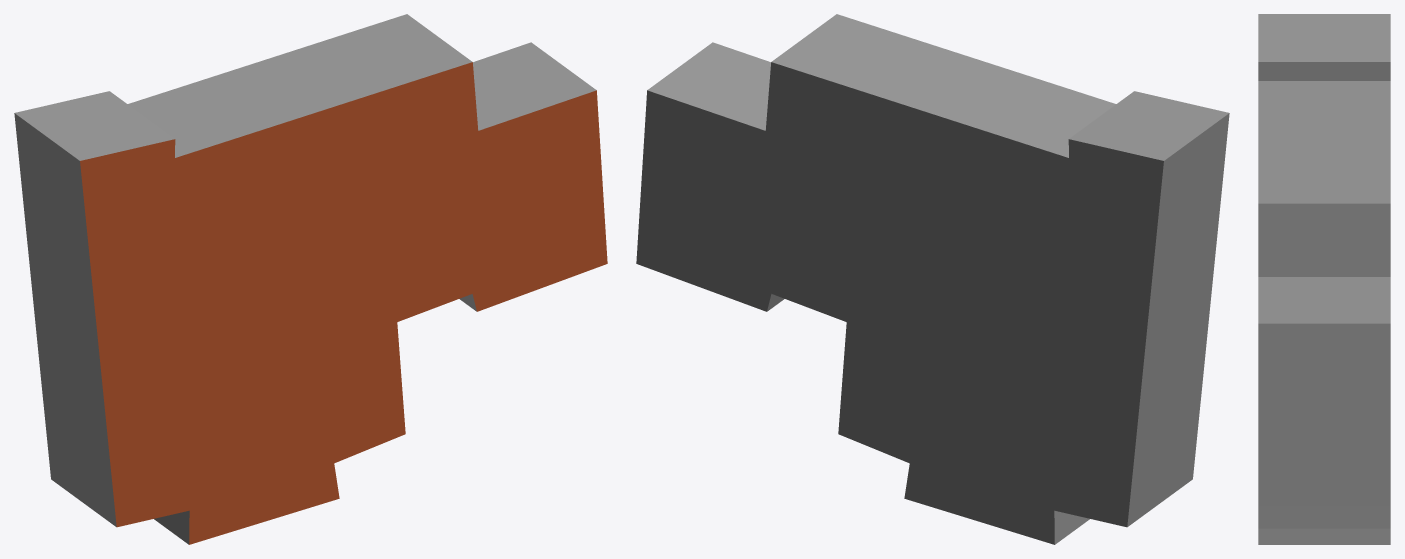
The model's file is construction_6101_assumed_A_Casa_h6m.obj.
3 views of the same model, side by side, from view 1: azimuth 30°, elevation 25°; view 2: azimuth 150°, elevation 25°; view 3: azimuth 270°, elevation 25° (orthographic).
Visible parts, largest first — view 1: construction_6101_assumed_A_Casa; view 2: construction_6101_assumed_A_Casa; view 3: construction_6101_assumed_A_Casa.
Part boxes in pixels (box(x1,y1,x2,y2)): construction_6101_assumed_A_Casa: box(14, 14, 607, 544); construction_6101_assumed_A_Casa: box(636, 14, 1229, 544); construction_6101_assumed_A_Casa: box(1258, 14, 1390, 544).
Size of the model in its own units: 27.85 by 20.87 by 6.
